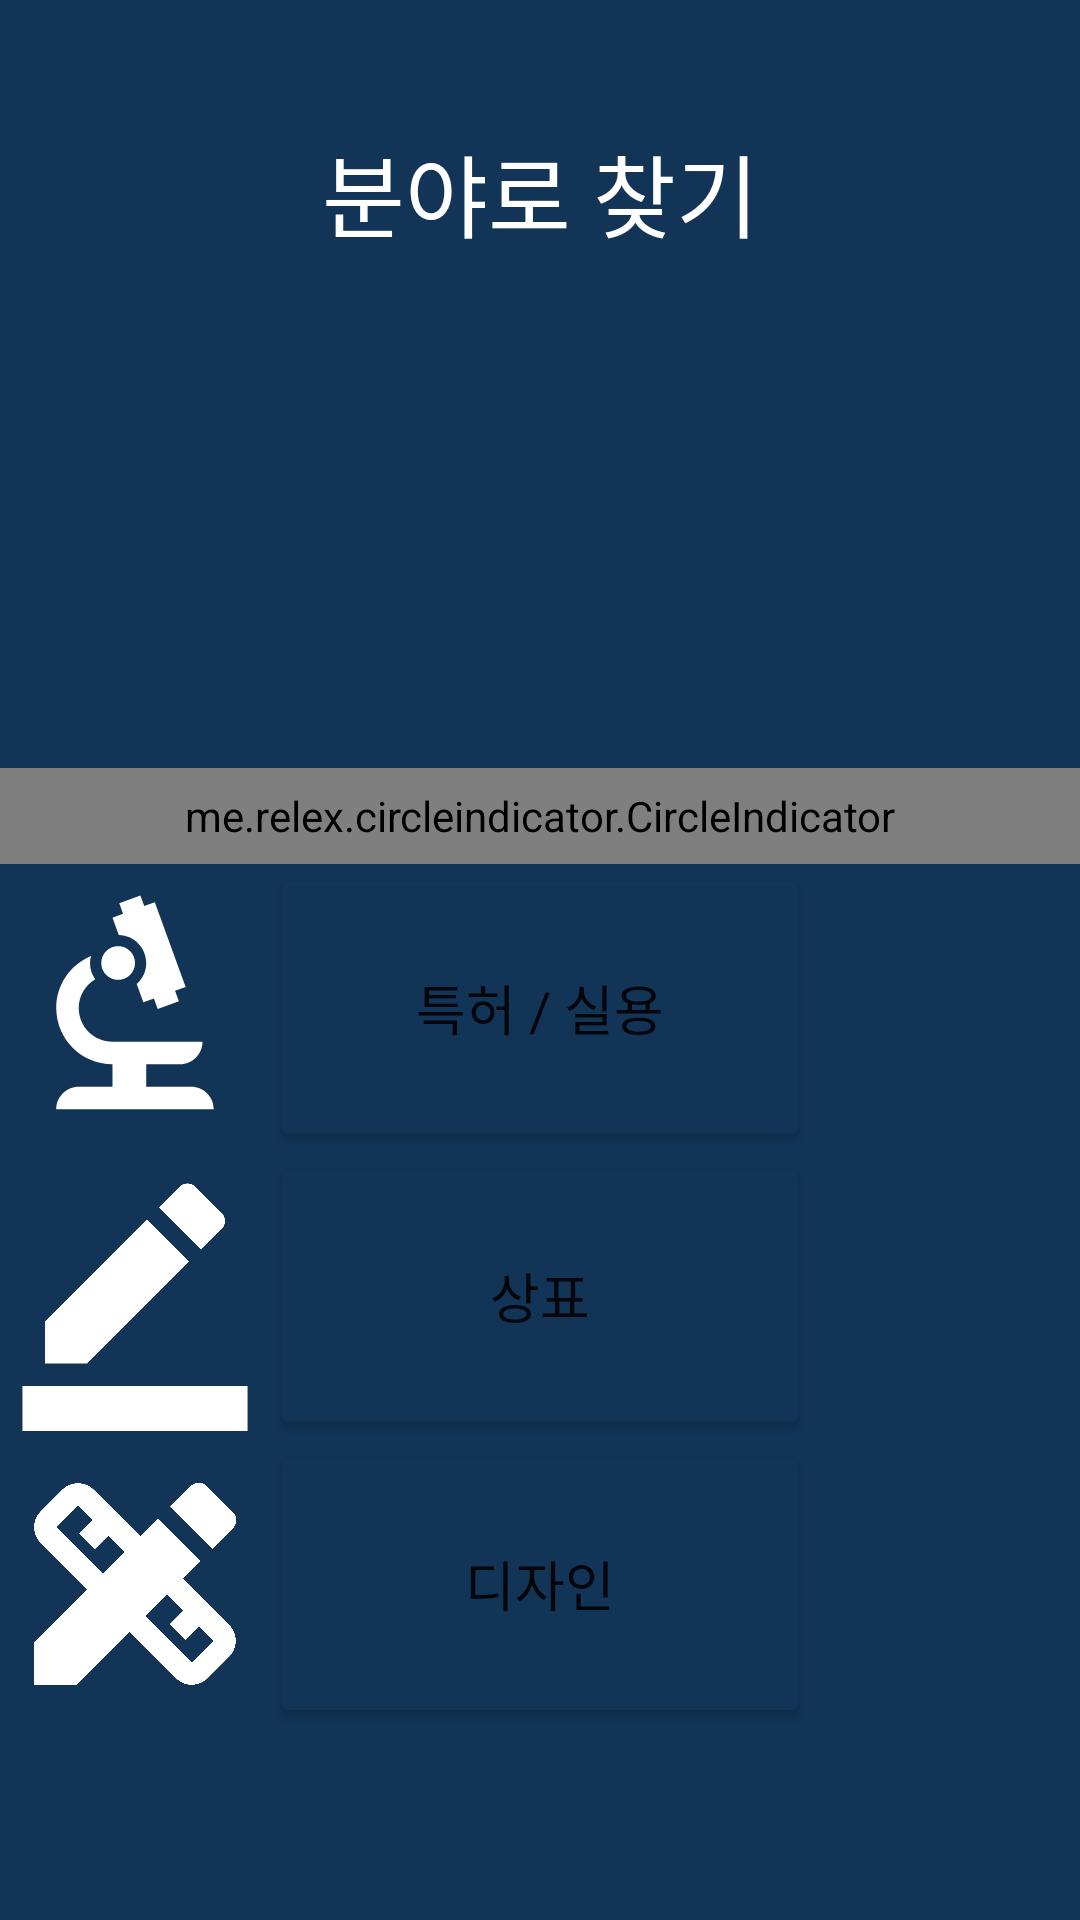

Where icons sit on this 1080px x 1920px app screen, as (x1, y1, x2, y2):
biotech: (56, 895, 214, 1110)
design services: (34, 1483, 236, 1685)
